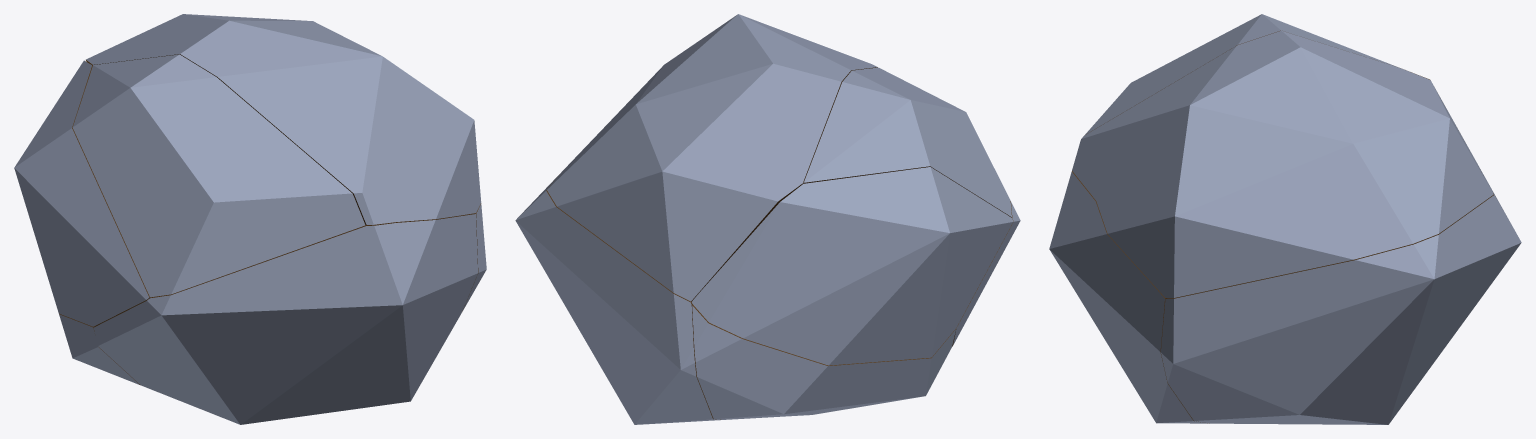
Rendered from Stone3Crack.fbx.
The picture shows the model from 3 angles, left to right: view 1: azimuth 30°, elevation 25°; view 2: azimuth 150°, elevation 25°; view 3: azimuth 270°, elevation 25°; orthographic projection. The views are drawn at different scales.
Parts seen in each view (by area): view 1: Stone3Crack_cell.003, Stone3Crack_cell.002, Stone3Crack_cell.004, Stone3Crack_cell.005, Stone3Crack_cell.001, Stone3Crack_cell; view 2: Stone3Crack_cell.004, Stone3Crack_cell.005, Stone3Crack_cell, Stone3Crack_cell.002, Stone3Crack_cell.001, Stone3Crack_cell.003; view 3: Stone3Crack_cell.004, Stone3Crack_cell, Stone3Crack_cell.003, Stone3Crack_cell.002.
Part boxes in pixels (x1,y1,x2,y2): Stone3Crack_cell.003: (93, 214, 477, 424); Stone3Crack_cell.002: (72, 54, 365, 297); Stone3Crack_cell.004: (86, 14, 481, 224); Stone3Crack_cell.005: (14, 60, 149, 326); Stone3Crack_cell.001: (59, 313, 140, 385); Stone3Crack_cell: (462, 203, 486, 311); Stone3Crack_cell.004: (547, 14, 877, 301); Stone3Crack_cell.005: (691, 167, 1013, 365); Stone3Crack_cell: (515, 174, 720, 424); Stone3Crack_cell.002: (803, 67, 1011, 217); Stone3Crack_cell.001: (692, 304, 956, 419); Stone3Crack_cell.003: (952, 201, 1020, 346); Stone3Crack_cell.004: (1072, 30, 1493, 297); Stone3Crack_cell: (1161, 193, 1521, 424); Stone3Crack_cell.003: (1049, 171, 1209, 423); Stone3Crack_cell.002: (1084, 14, 1396, 135).
Bounding box in the file's own units: 116 × 102 × 130.
